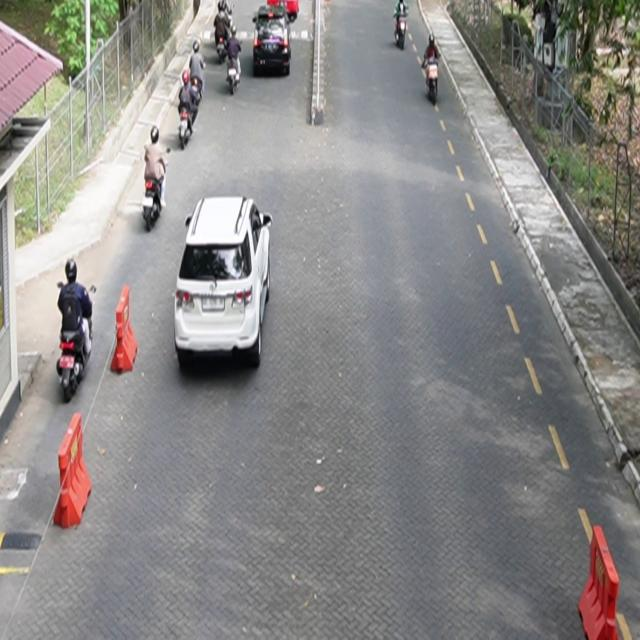car: (175, 195, 273, 369), (253, 6, 292, 77)
